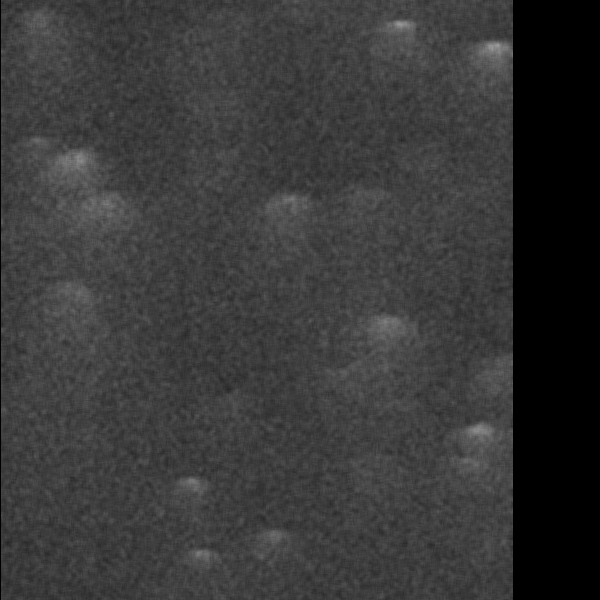spark: (124, 417, 196, 459), (141, 262, 202, 307), (205, 82, 268, 118), (124, 536, 203, 562), (108, 333, 191, 356), (1, 159, 15, 239), (133, 502, 185, 523)
